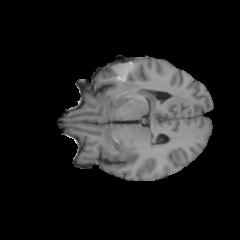glioma: (109, 61, 153, 104)
